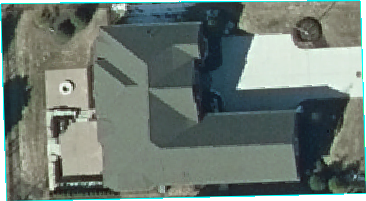house: (95, 22, 300, 189)
